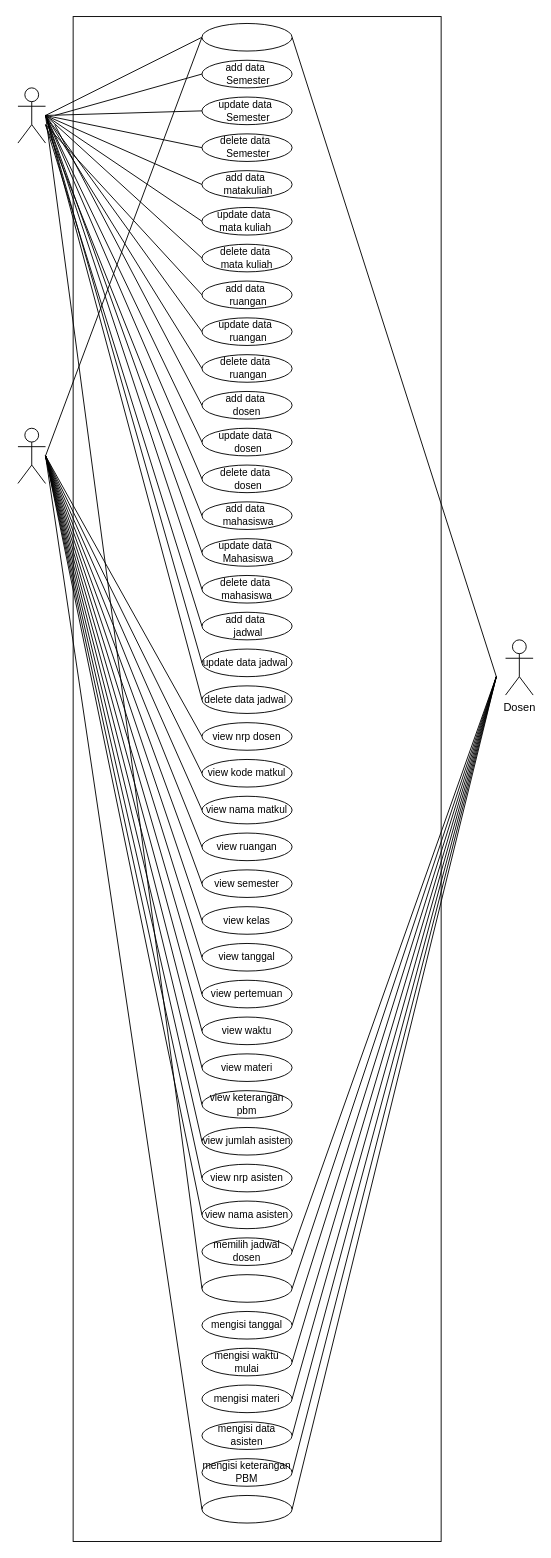
Some shapes in this 551 by 1558 pixel diagram are drawn without their labels. The centre of each missing label's shape, as x and y in pixels:
"Admin" goes at (31,115).
"Log In" goes at (246,37).
"Log Out" goes at (246,1509).
"mengisi pertemuan" goes at (246,1288).
"TU" goes at (31,455).
